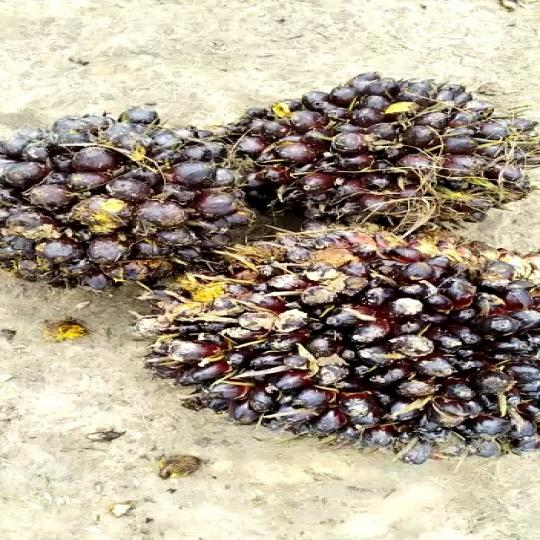mentah: (167, 233, 540, 469), (197, 80, 540, 219), (0, 115, 253, 290)
